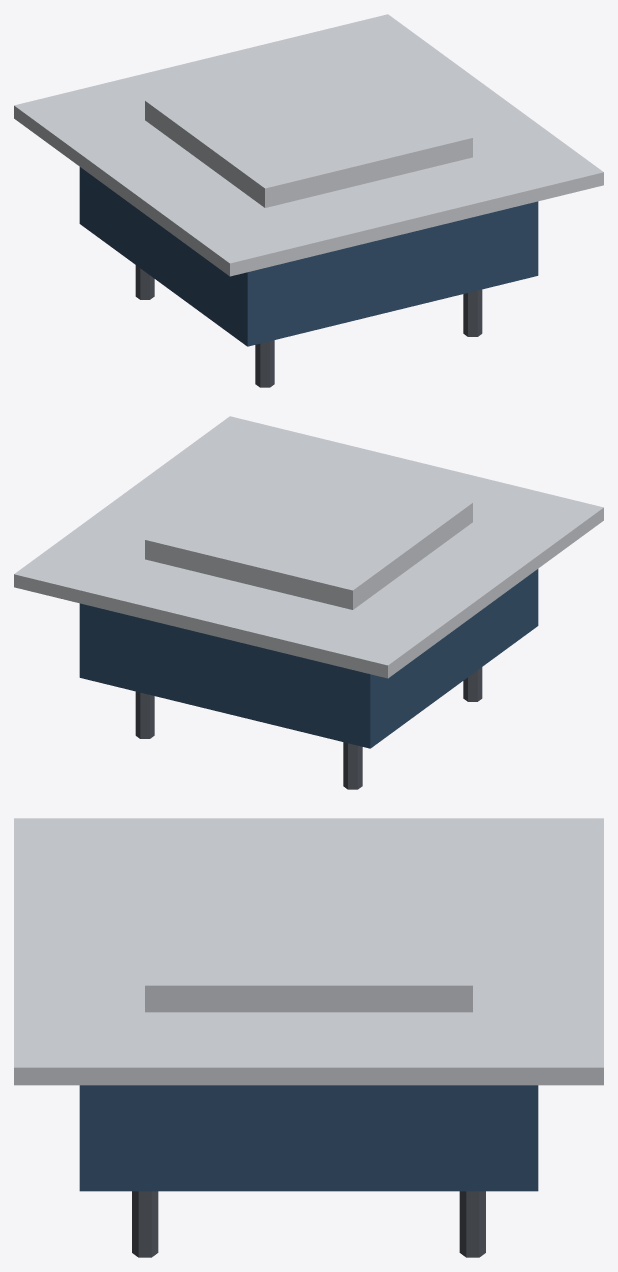
Rendered from pavilion.glb.
3 renders of one model, top to bottom at view 1: azimuth 30°, elevation 25°; view 2: azimuth 150°, elevation 25°; view 3: azimuth 270°, elevation 25°, orthographic. The views are drawn at different scales.
Visible parts, largest first — view 1: pavilion; view 2: pavilion; view 3: pavilion.
Boxes of the visible parts, x1,y1,x2,y2 form: pavilion: [14, 14, 603, 387]; pavilion: [14, 416, 603, 789]; pavilion: [14, 818, 603, 1257].
Size of the model in its own units: 18 by 9 by 18.
